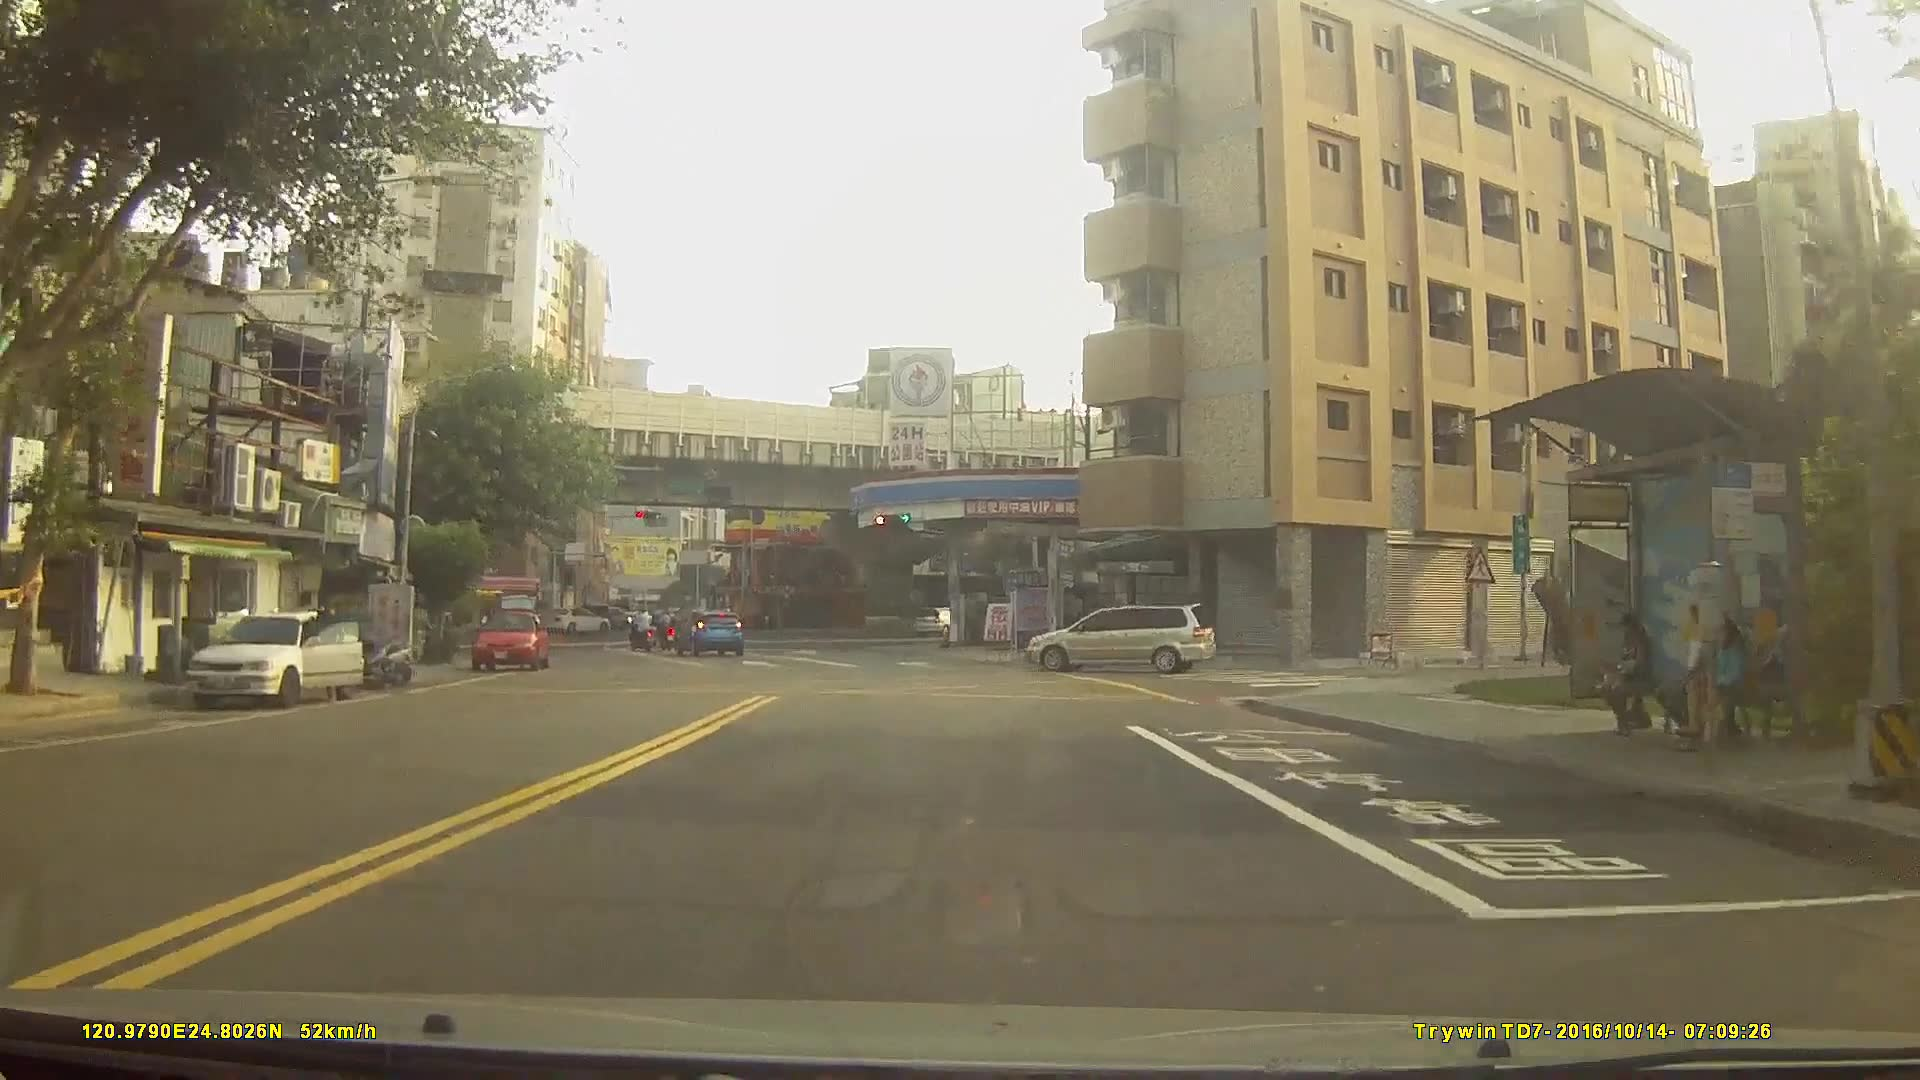pedestrian: (1592, 618, 1656, 738)
rider: (627, 607, 658, 656)
vehicle: (185, 607, 363, 710), (1024, 603, 1219, 671), (471, 609, 551, 670), (671, 608, 746, 655), (549, 604, 611, 635), (543, 605, 611, 634), (909, 604, 961, 635)
